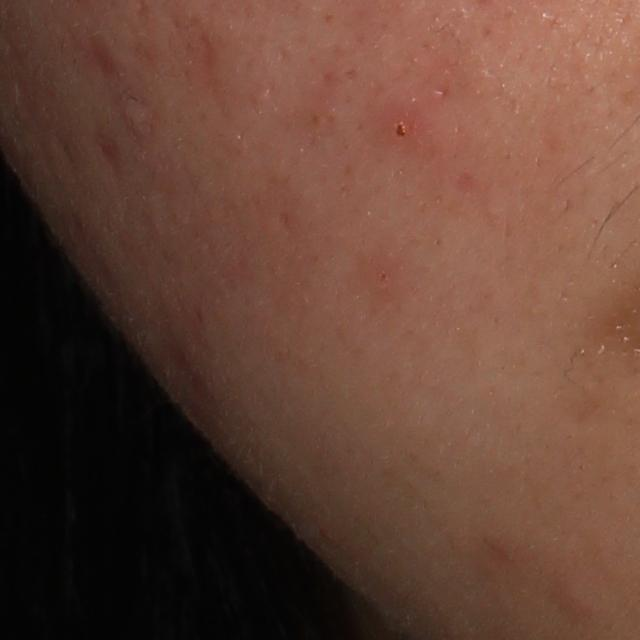papule: (379, 108, 418, 145)
